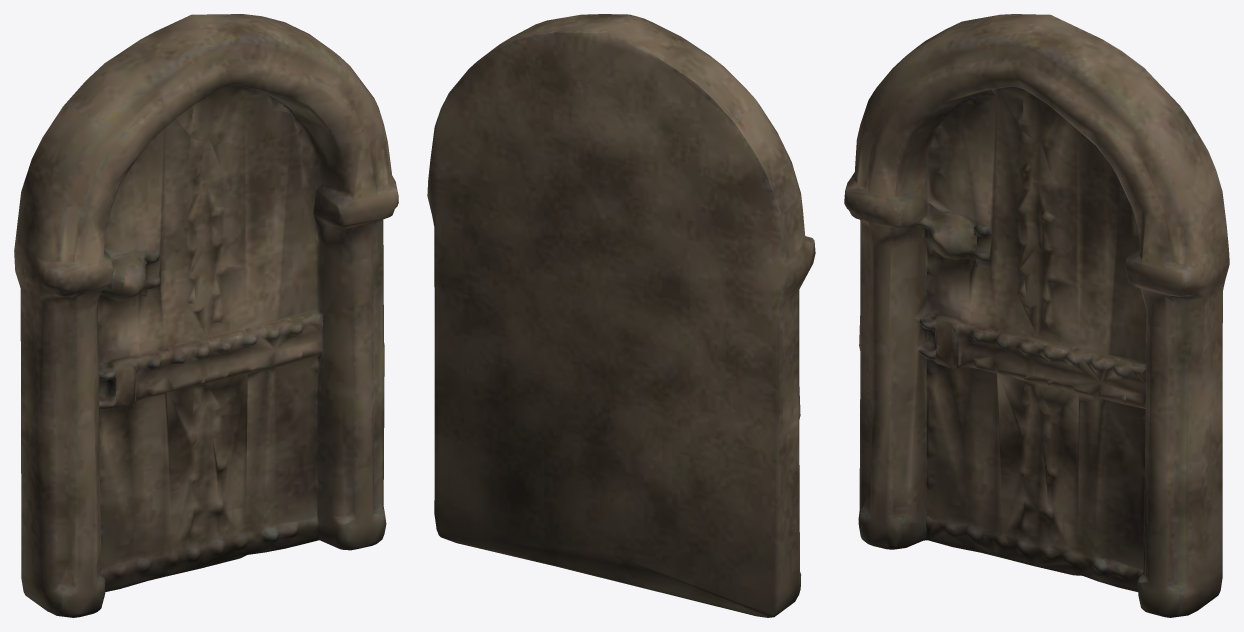
Rendered from rustic-wood-castle-door-v001.glb.
3 views of the same model, side by side, from view 1: azimuth 30°, elevation 25°; view 2: azimuth 150°, elevation 25°; view 3: azimuth 330°, elevation 25° (orthographic).
Parts seen in each view (by area): view 1: rustic-wood-castle-door; view 2: rustic-wood-castle-door; view 3: rustic-wood-castle-door.
Part boxes in pixels (bbox=[...]): rustic-wood-castle-door: bbox=[14, 14, 398, 617]; rustic-wood-castle-door: bbox=[427, 14, 815, 617]; rustic-wood-castle-door: bbox=[844, 14, 1229, 617].
Bounding box in the file's own units: 1.91 × 2.77 × 0.3487.
1 material, 1 textured.
